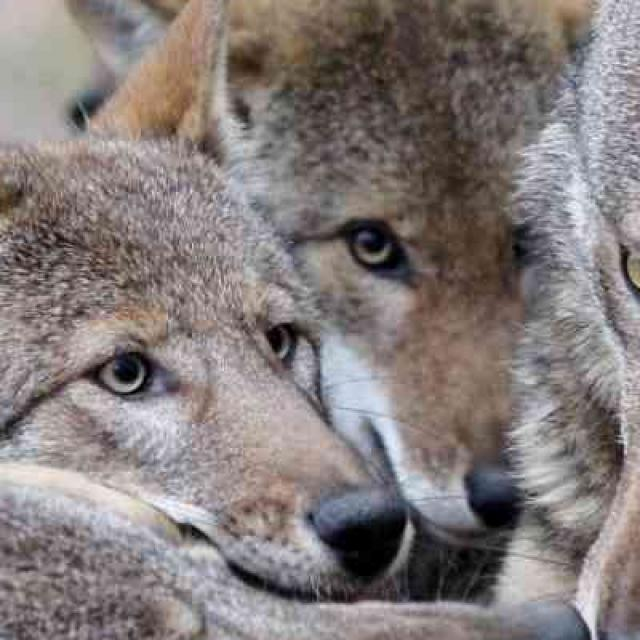wolf: (19, 0, 619, 538), (0, 0, 422, 627), (0, 337, 635, 640), (502, 0, 640, 640)
